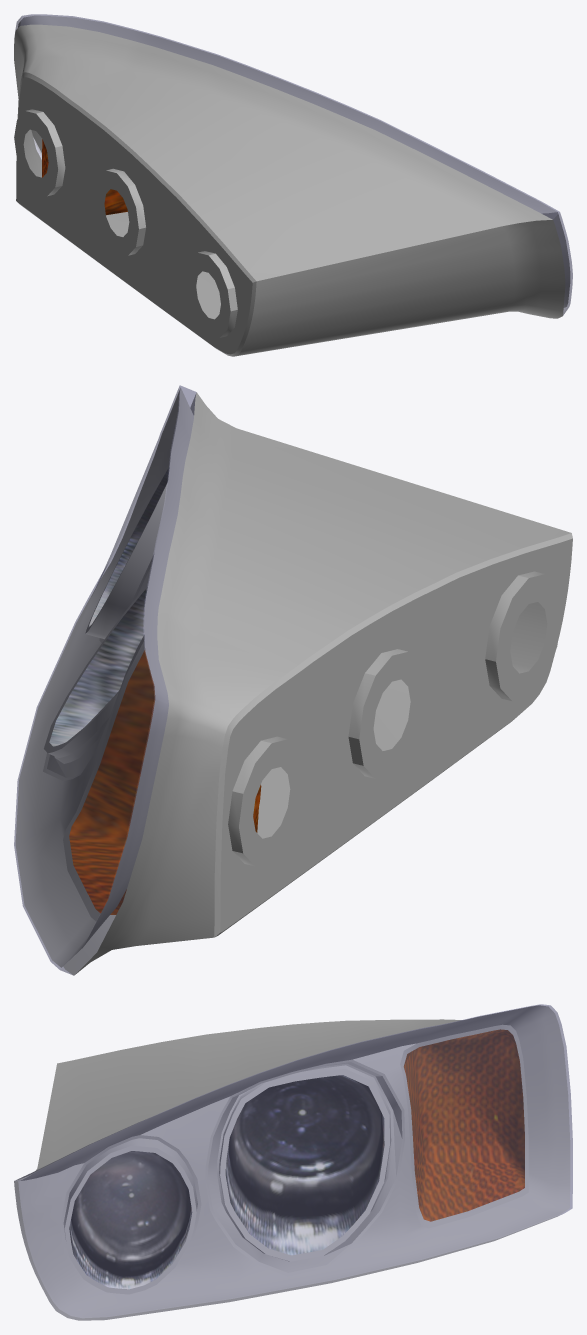
3 renders of one model, top to bottom at view 1: azimuth 30°, elevation 25°; view 2: azimuth 150°, elevation 25°; view 3: azimuth 270°, elevation 25°, orthographic. The views are drawn at different scales.
Parts seen in each view (by area): view 1: E232_061B_L_E232_061B_L_4_DaS, E232_061B_L_E232_061B_L_5_DTaSI, E232_061B_L_1_N_E232_061B_L; view 2: E232_061B_L_E232_061B_L_4_DaS, E232_061B_L_E232_061B_L_5_DTaSI, E232_061B_L_1_N_E232_061B_L, E232_061B_L_E232_061B_L_2_N, E232_061B_L_E232_061B_L_3_N; view 3: E232_061B_L_E232_061B_L_5_DTaSI, E232_061B_L_E232_061B_L_4_DaS, E232_061B_L_E232_061B_L_2_N, E232_061B_L_1_N_E232_061B_L, E232_061B_L_E232_061B_L_3_N.
Boxes of the visible parts, x1=… form: E232_061B_L_E232_061B_L_4_DaS: x1=14, y1=15, x2=570, y2=356; E232_061B_L_E232_061B_L_5_DTaSI: x1=15, y1=14, x2=572, y2=315; E232_061B_L_1_N_E232_061B_L: x1=42, y1=139, x2=127, y2=215; E232_061B_L_E232_061B_L_4_DaS: x1=15, y1=387, x2=572, y2=975; E232_061B_L_E232_061B_L_5_DTaSI: x1=14, y1=385, x2=196, y2=975; E232_061B_L_1_N_E232_061B_L: x1=69, y1=650, x2=261, y2=914; E232_061B_L_E232_061B_L_2_N: x1=49, y1=587, x2=147, y2=746; E232_061B_L_E232_061B_L_3_N: x1=89, y1=467, x2=169, y2=626; E232_061B_L_E232_061B_L_5_DTaSI: x1=14, y1=1004, x2=572, y2=1320; E232_061B_L_E232_061B_L_4_DaS: x1=14, y1=1005, x2=570, y2=1320; E232_061B_L_E232_061B_L_2_N: x1=225, y1=1075, x2=384, y2=1255; E232_061B_L_1_N_E232_061B_L: x1=404, y1=1029, x2=524, y2=1221; E232_061B_L_E232_061B_L_3_N: x1=69, y1=1151, x2=192, y2=1289.
Bounding box in the file's own units: 30.13 × 18.21 × 46.95.
